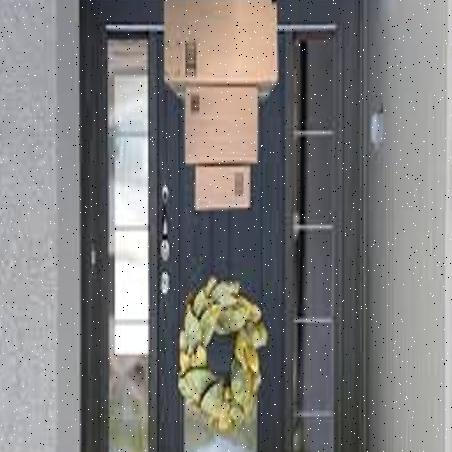Other: (165, 1, 280, 106), (182, 89, 261, 167), (195, 168, 252, 214)
